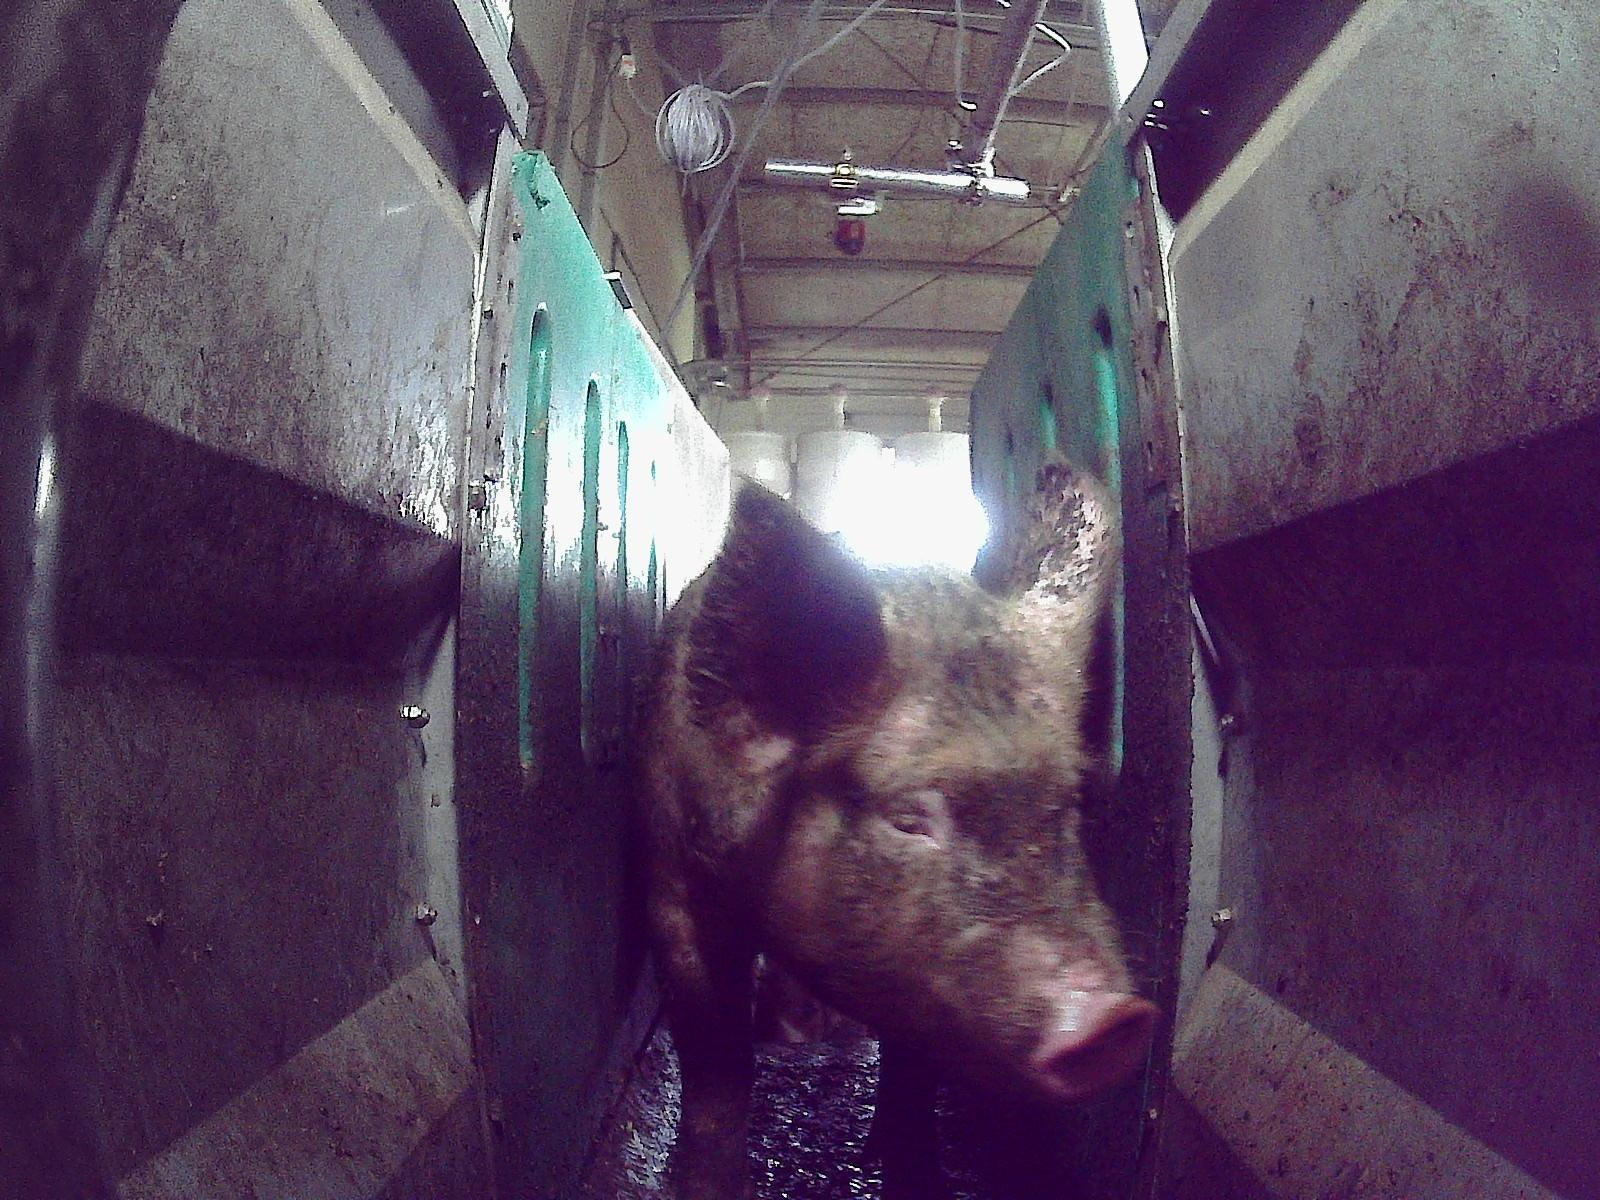Face: (768, 590, 1159, 1104)
